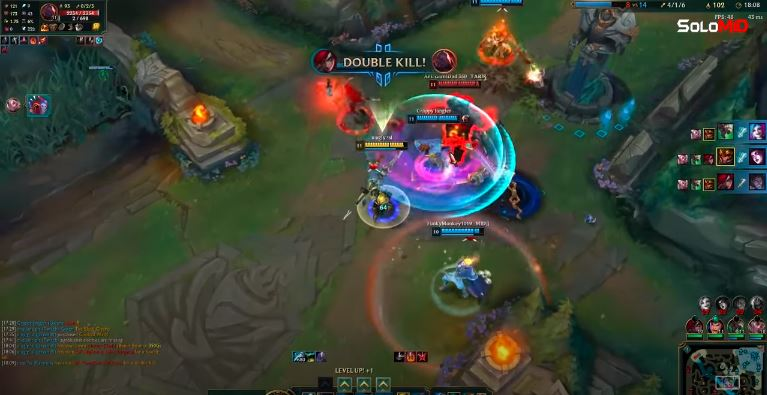bar: (327, 59, 390, 71), (355, 139, 410, 152), (431, 225, 487, 237), (406, 113, 462, 124), (426, 78, 481, 89), (472, 1, 525, 6)
